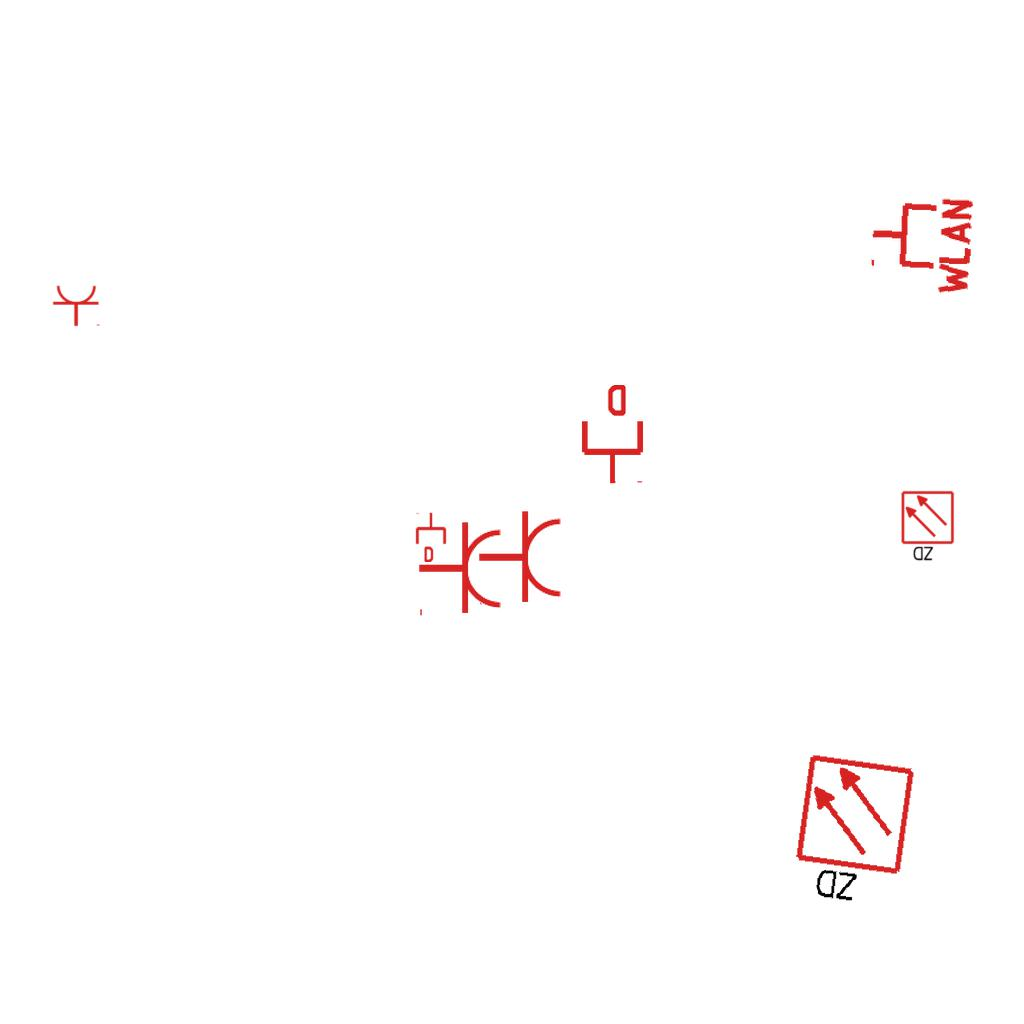Datenanschluss_einfach: (578, 385, 647, 485), (414, 512, 448, 562)
Schukosteckdose_einfach: (477, 509, 564, 609), (417, 520, 504, 620), (52, 284, 102, 327)
WLAN: (865, 190, 976, 300)
ZD_Melder_in_Zwischendecke_mit_Revisionsoeffnung_mind_40_x_40_cm: (787, 751, 921, 916), (900, 490, 957, 564)
